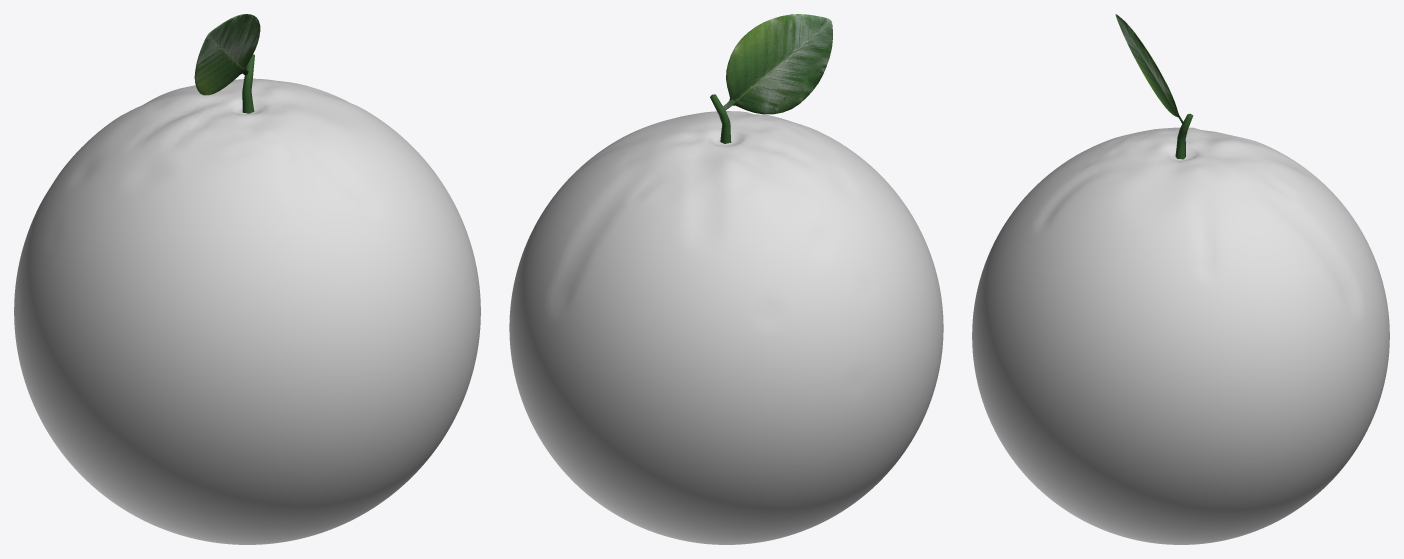
File: orange.glb
The picture shows the model from 3 angles, left to right: view 1: azimuth 30°, elevation 25°; view 2: azimuth 150°, elevation 25°; view 3: azimuth 270°, elevation 25°; orthographic projection. The views are drawn at different scales.
Visible parts, largest first — view 1: Orange fruit, Orange.002; view 2: Orange fruit, Orange.002; view 3: Orange fruit, Orange.002.
Part boxes in pixels (box(x1,y1,x2,y2)): Orange fruit: box(14, 78, 480, 544); Orange.002: box(194, 14, 260, 113); Orange fruit: box(509, 111, 943, 544); Orange.002: box(710, 14, 832, 143); Orange fruit: box(972, 127, 1389, 544); Orange.002: box(1115, 14, 1193, 159).
Bounding box in the file's own units: 0.1198 × 0.1524 × 0.1198.
Materials: 2 (1 with a texture image).
